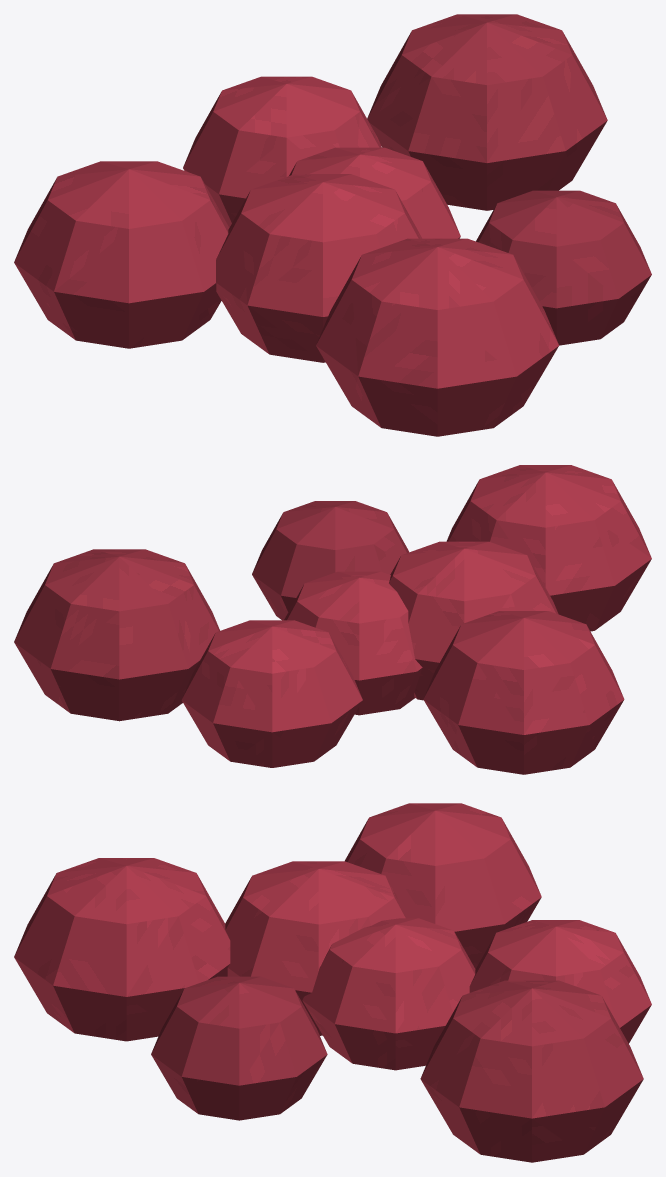
Rendered from cranberries.glb.
The picture shows the model from 3 angles, top to bottom: view 1: azimuth 30°, elevation 25°; view 2: azimuth 150°, elevation 25°; view 3: azimuth 270°, elevation 25°; orthographic projection. The views are drawn at different scales.
Parts seen in each view (by area): view 1: block_individual berry (×7); view 2: block_individual berry (×7); view 3: block_individual berry (×7).
Boxes of the visible parts, x1=… form: block_individual berry (×7): x1=14, y1=14, x2=651, y2=436; block_individual berry (×7): x1=14, y1=465, x2=651, y2=774; block_individual berry (×7): x1=14, y1=803, x2=651, y2=1162.
Bounding box in the file's own units: 0.1084 × 0.0303 × 0.1057.
1 material, 1 textured.
